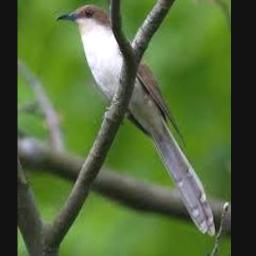Cuckoo: (56, 5, 216, 236)
